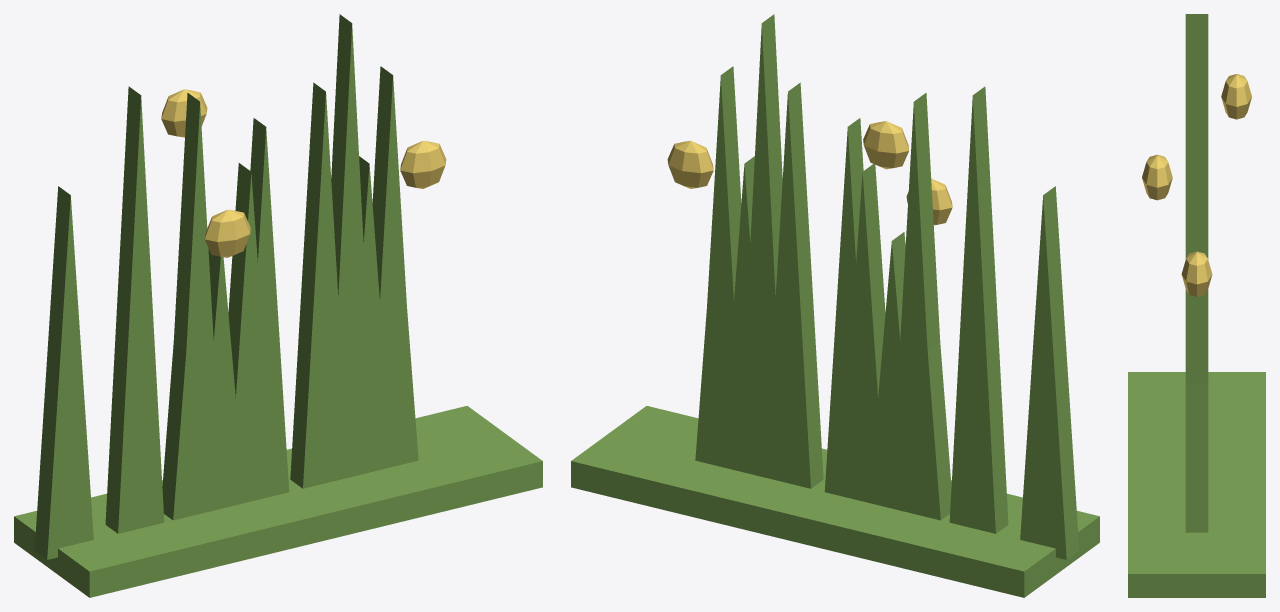
The model's file is GG-VEG-GRASS-COASTAL-DUNE-001_LOD_CLOSE.glb.
3 views of the same model, side by side, from view 1: azimuth 30°, elevation 25°; view 2: azimuth 150°, elevation 25°; view 3: azimuth 270°, elevation 25° (orthographic). The views are drawn at different scales.
Visible parts, largest first — view 1: GG_VEG_MOD_BASE_001, GG_VEG_MODULE_7, GG_VEG_MODULE_13, GG_VEG_MODULE_8, GG_VEG_MODULE_10, GG_VEG_MODULE_4, GG_VEG_MODULE_5, GG_VEG_MODULE_14, GG_VEG_MODULE_11, GG_VEG_MODULE_3, GG_VEG_MODULE_9, GG_VEG_MODULE_2 (+6 smaller); view 2: GG_VEG_MOD_BASE_001, GG_VEG_MODULE_7, GG_VEG_MODULE_13, GG_VEG_MODULE_8, GG_VEG_MODULE_10, GG_VEG_MODULE_2, GG_VEG_MODULE_5, GG_VEG_MODULE_4, GG_VEG_MODULE_14, GG_VEG_MODULE_11, GG_VEG_MODULE_1, GG_VEG_MODULE_9 (+6 smaller); view 3: GG_VEG_MOD_BASE_001, GG_VEG_MODULE_2, GG_VEG_MODULE_14, GG_VEG_MODULE_4, GG_VEG_ACCENT_1, GG_VEG_ACCENT_2, GG_VEG_ACCENT_3, GG_VEG_MODULE_7, GG_VEG_MODULE_10.
Part boxes in pixels (x1,y1,x2,y2): GG_VEG_MOD_BASE_001: (14, 406, 542, 597); GG_VEG_MODULE_7: (105, 86, 164, 533); GG_VEG_MODULE_13: (290, 82, 348, 488); GG_VEG_MODULE_8: (34, 186, 93, 559); GG_VEG_MODULE_10: (173, 93, 222, 519); GG_VEG_MODULE_4: (329, 14, 374, 482); GG_VEG_MODULE_5: (243, 118, 289, 502); GG_VEG_MODULE_14: (372, 159, 418, 471); GG_VEG_MODULE_11: (228, 163, 269, 506); GG_VEG_MODULE_3: (346, 156, 391, 477); GG_VEG_MODULE_9: (208, 248, 244, 509); GG_VEG_MODULE_2: (371, 66, 414, 463); GG_VEG_MOD_BASE_001: (571, 406, 1099, 597); GG_VEG_MODULE_7: (949, 86, 1008, 533); GG_VEG_MODULE_13: (765, 82, 823, 488); GG_VEG_MODULE_8: (1020, 186, 1079, 559); GG_VEG_MODULE_10: (890, 93, 940, 519); GG_VEG_MODULE_2: (698, 66, 743, 468); GG_VEG_MODULE_5: (824, 118, 870, 503); GG_VEG_MODULE_4: (739, 14, 784, 481); GG_VEG_MODULE_14: (695, 172, 740, 471); GG_VEG_MODULE_11: (854, 164, 885, 506); GG_VEG_MODULE_1: (731, 230, 776, 480); GG_VEG_MODULE_9: (870, 232, 905, 508); GG_VEG_MOD_BASE_001: (1128, 372, 1265, 597); GG_VEG_MODULE_2: (1185, 164, 1208, 384); GG_VEG_MODULE_14: (1185, 384, 1208, 532); GG_VEG_MODULE_4: (1185, 89, 1208, 163); GG_VEG_ACCENT_1: (1181, 251, 1212, 296); GG_VEG_ACCENT_2: (1221, 74, 1251, 119); GG_VEG_ACCENT_3: (1142, 154, 1172, 200); GG_VEG_MODULE_7: (1185, 14, 1208, 58); GG_VEG_MODULE_10: (1185, 59, 1208, 88).
Bounding box in the file's own units: 1.11 × 1.09 × 0.312.
